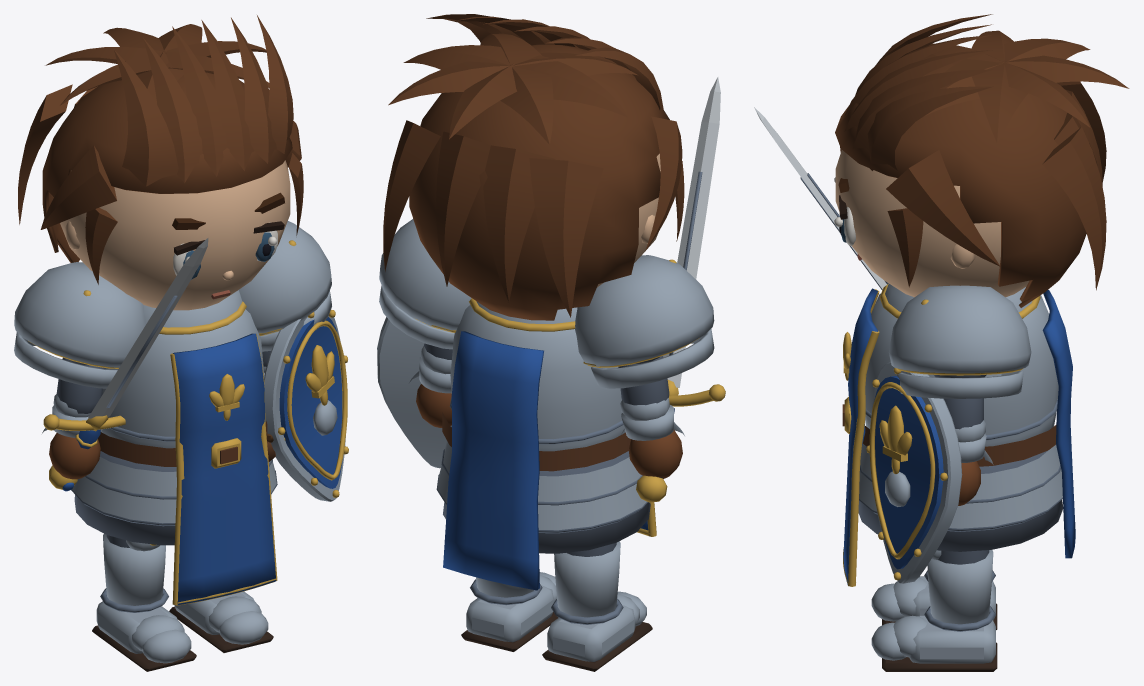
File: blade-warden.glb
3 views of the same model, side by side, from view 1: azimuth 30°, elevation 25°; view 2: azimuth 150°, elevation 25°; view 3: azimuth 270°, elevation 25° (orthographic). The views are drawn at different scales.
Parts seen in each view (by area): view 1: head-skin, torso-skin, arm-right-skin, shield-skin, leg-left-skin, arm-left-skin, weapon-skin, leg-right-skin, head-detail, shield-detail, torso-detail, weapon-detail; view 2: head-skin, torso-skin, arm-right-skin, arm-left-skin, leg-left-skin, leg-right-skin, shield-skin, weapon-skin, weapon-detail; view 3: head-skin, torso-skin, arm-left-skin, shield-skin, leg-right-skin, shield-detail, leg-left-skin, weapon-skin, head-detail.
Part boxes in pixels (box(x1,y1,x2,y2)): head-skin: box(18, 15, 303, 310); torso-skin: box(71, 290, 277, 605); arm-right-skin: box(14, 262, 145, 479); shield-skin: box(264, 316, 347, 501); leg-left-skin: box(92, 533, 196, 671); arm-left-skin: box(239, 221, 331, 376); weapon-skin: box(56, 238, 208, 449); leg-right-skin: box(169, 591, 273, 652); head-detail: box(65, 192, 284, 299); shield-detail: box(278, 309, 348, 497); torso-detail: box(209, 374, 285, 464); weapon-detail: box(43, 414, 108, 491); head-skin: box(383, 14, 684, 320); torso-skin: box(436, 298, 656, 590); arm-right-skin: box(575, 255, 714, 478); arm-left-skin: box(379, 219, 471, 427); leg-left-skin: box(542, 541, 652, 671); leg-right-skin: box(461, 572, 558, 651); shield-skin: box(377, 317, 451, 468); weapon-skin: box(660, 77, 720, 478); weapon-detail: box(636, 380, 725, 502); head-skin: box(835, 14, 1129, 307); torso-skin: box(843, 283, 1075, 586); arm-left-skin: box(888, 285, 1031, 505); shield-skin: box(869, 362, 962, 583); leg-right-skin: box(871, 550, 997, 671); shield-detail: box(866, 368, 947, 580); leg-left-skin: box(871, 570, 997, 629); weapon-skin: box(754, 107, 888, 290); head-detail: box(834, 147, 975, 268).
Bounding box in the file's own units: 0.5634 × 0.9967 × 0.5533.
